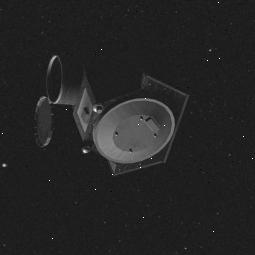cheops: (21, 42, 190, 180)
